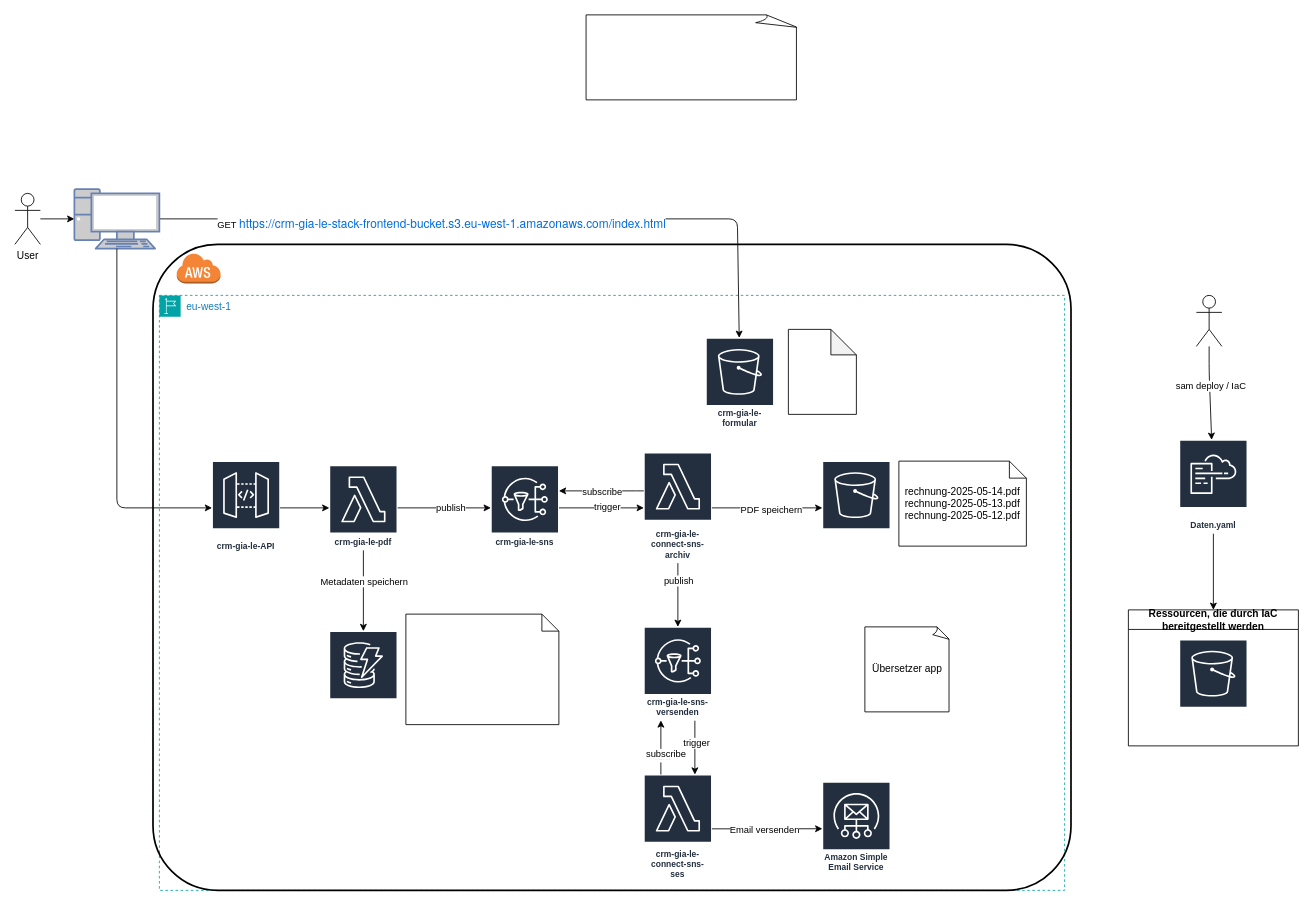
This 1313x906 diagram has some shape labels left out. The centre of each missing label's shape, as x and y in pixels:
Amazon S3: (1213,682)
crm-gia-le-stack-archiv: (856,507)
Developer: (1209,320)
RechnungenDB: (363,677)
rechnungID: name: email: preis: pdfurl: rechnung-2025-05-14.pdf: (482,669)
TS css html: (822,371)
Weitere pipline -> "create build" erstellt -> pipeline erstellt: (692,57)
